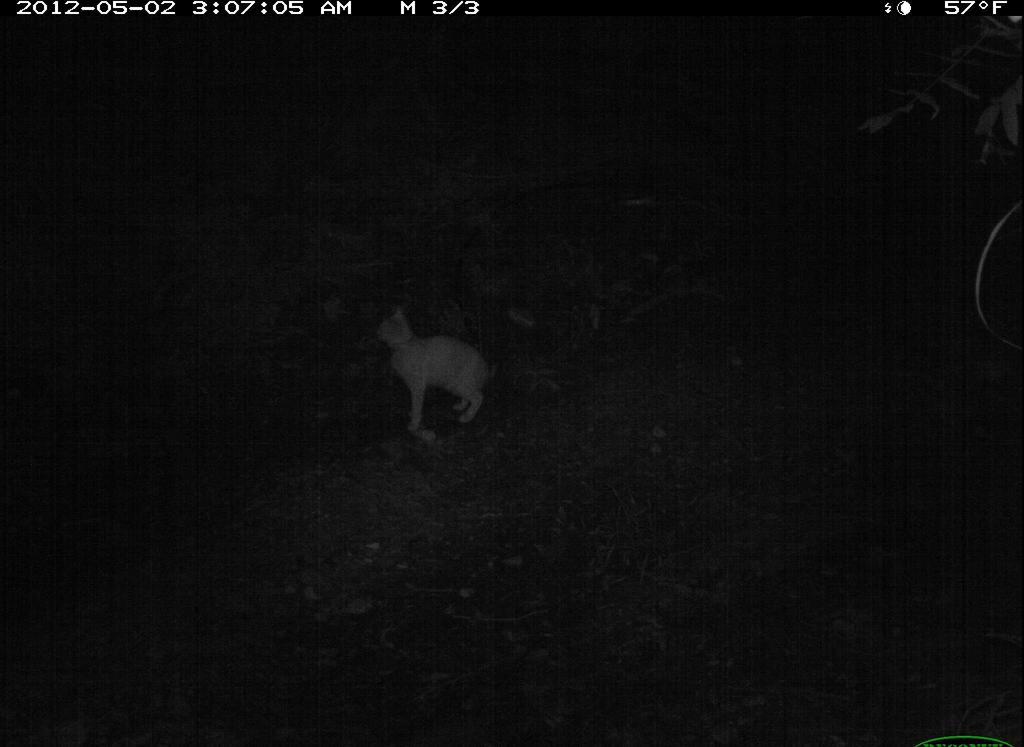cat: (360, 300, 516, 445)
